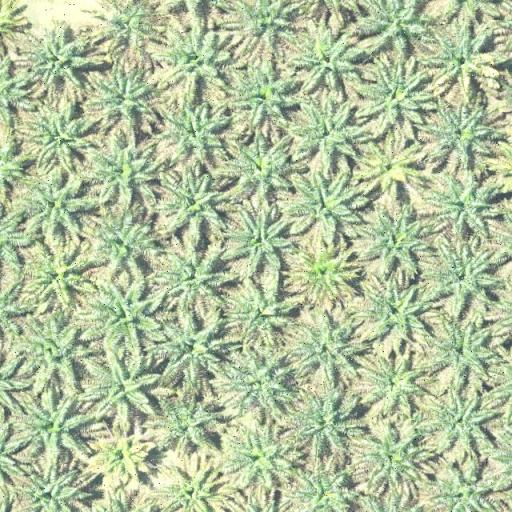Ganoderma: (104, 440, 140, 475)
